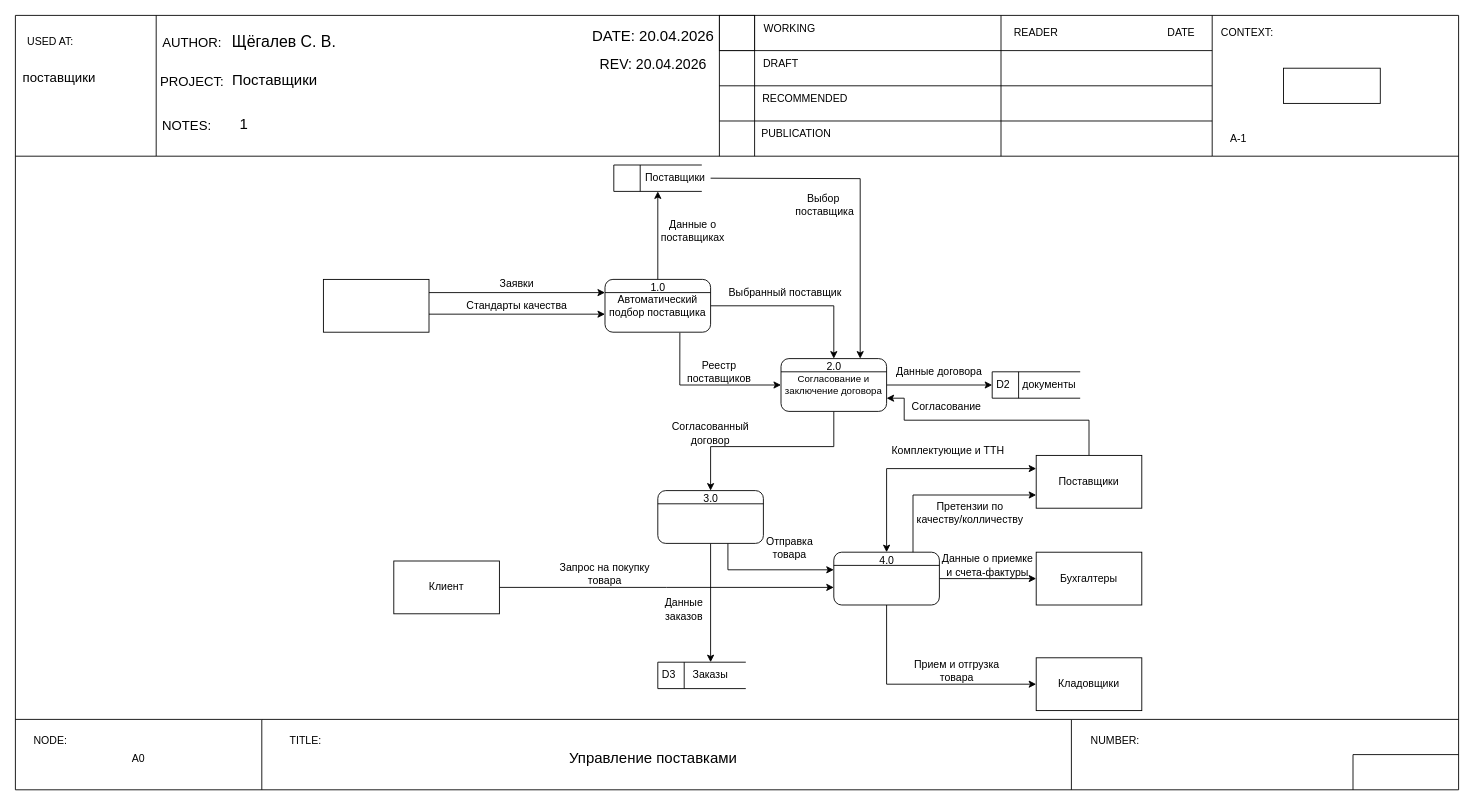
Image size: 1475x806. Some labels were removed from this diagram. Each missing label, with the box of its shape:
D1: (613, 164, 702, 191)
Закупщики: (323, 279, 429, 332)
Приемка и контроль поставок: (833, 551, 939, 605)
Формирование и мониторинг заказов: (657, 490, 763, 543)
